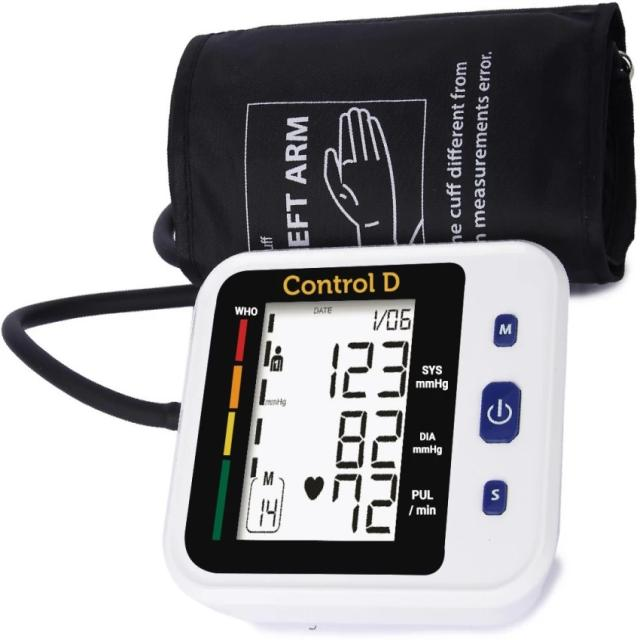dia: (320, 395, 408, 479)
pul: (325, 469, 401, 538)
ssd: (236, 287, 414, 552)
sys: (319, 333, 410, 403)
